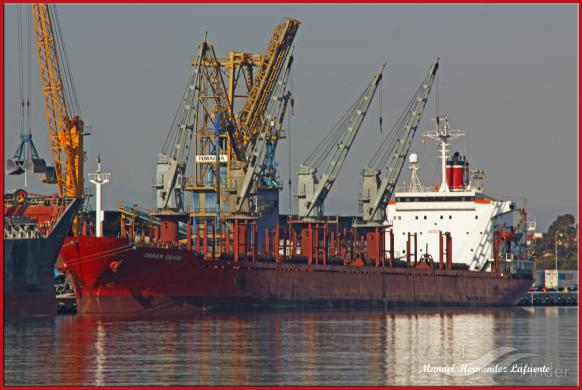OCR: (127, 248, 190, 268)
